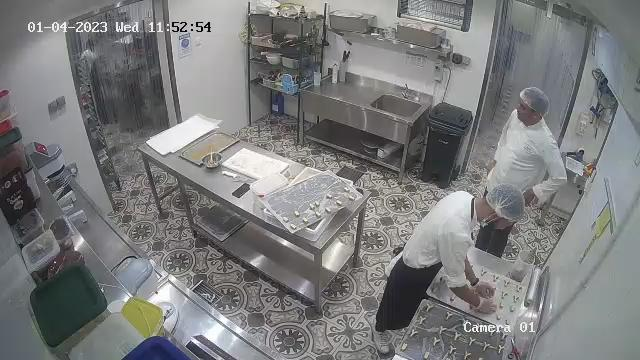apron: (484, 114, 556, 192), (389, 240, 443, 289)
